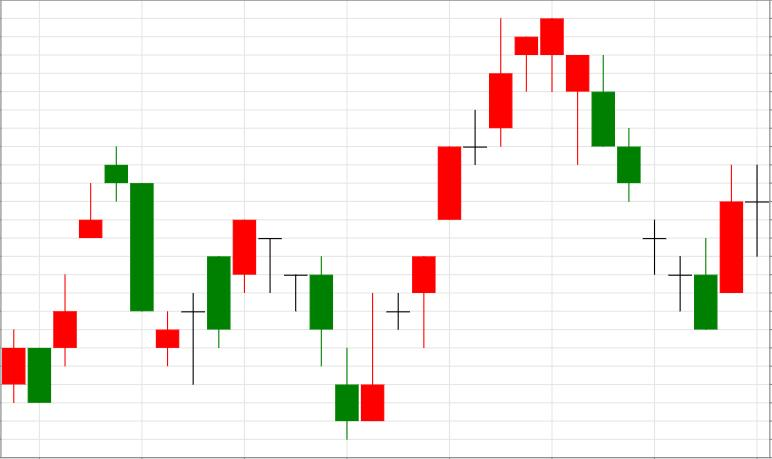hanging_man_fall: (336, 256, 436, 439)
inverse_hammer_rise: (233, 219, 385, 439)
